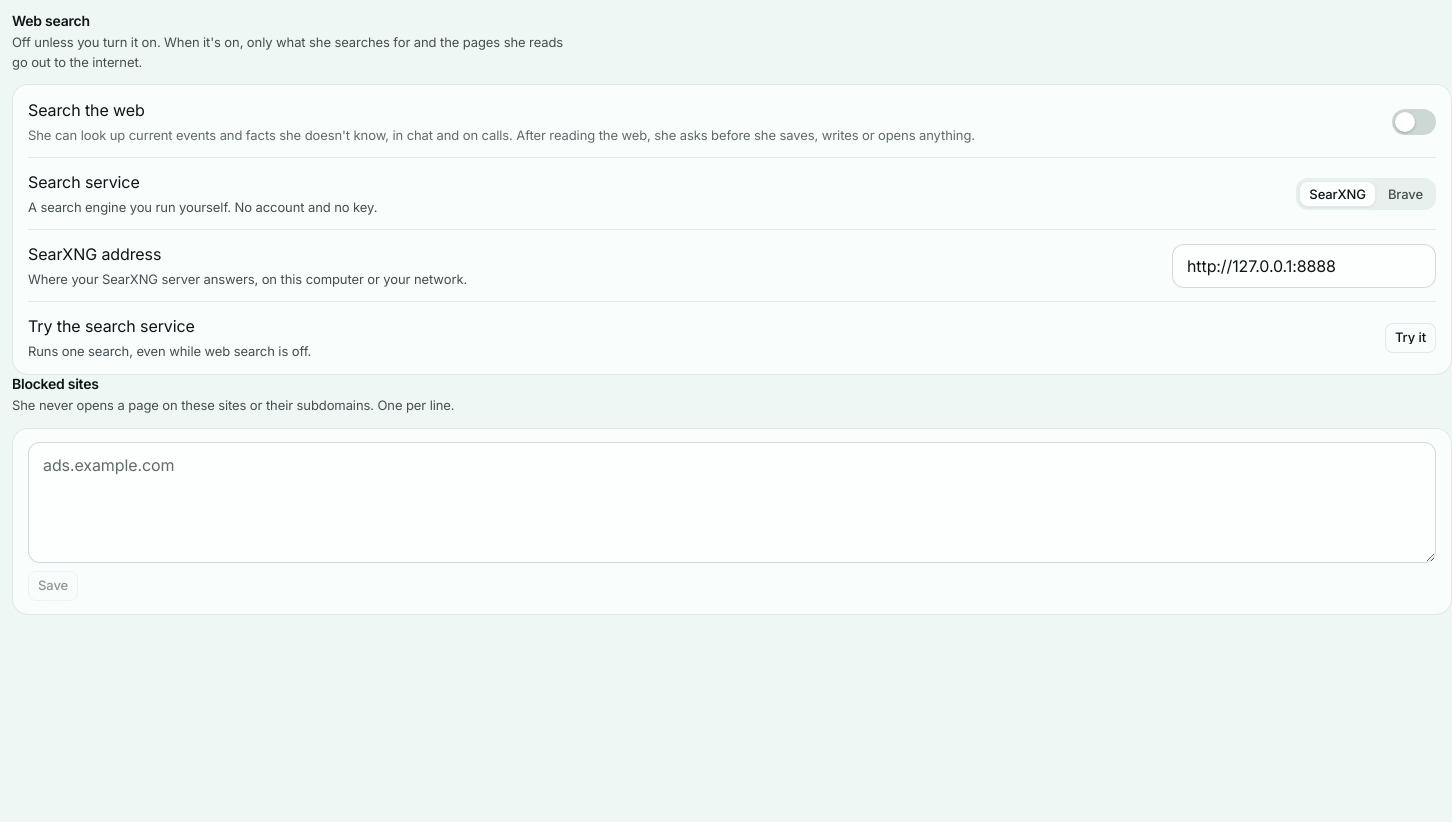
it: web search settings › refuses an address that is not http before saving it
Replace the text in the field named "SearXNG address" with "file:///etc" at (1304, 266), box [1172,244,1436,288]
Then press Enter
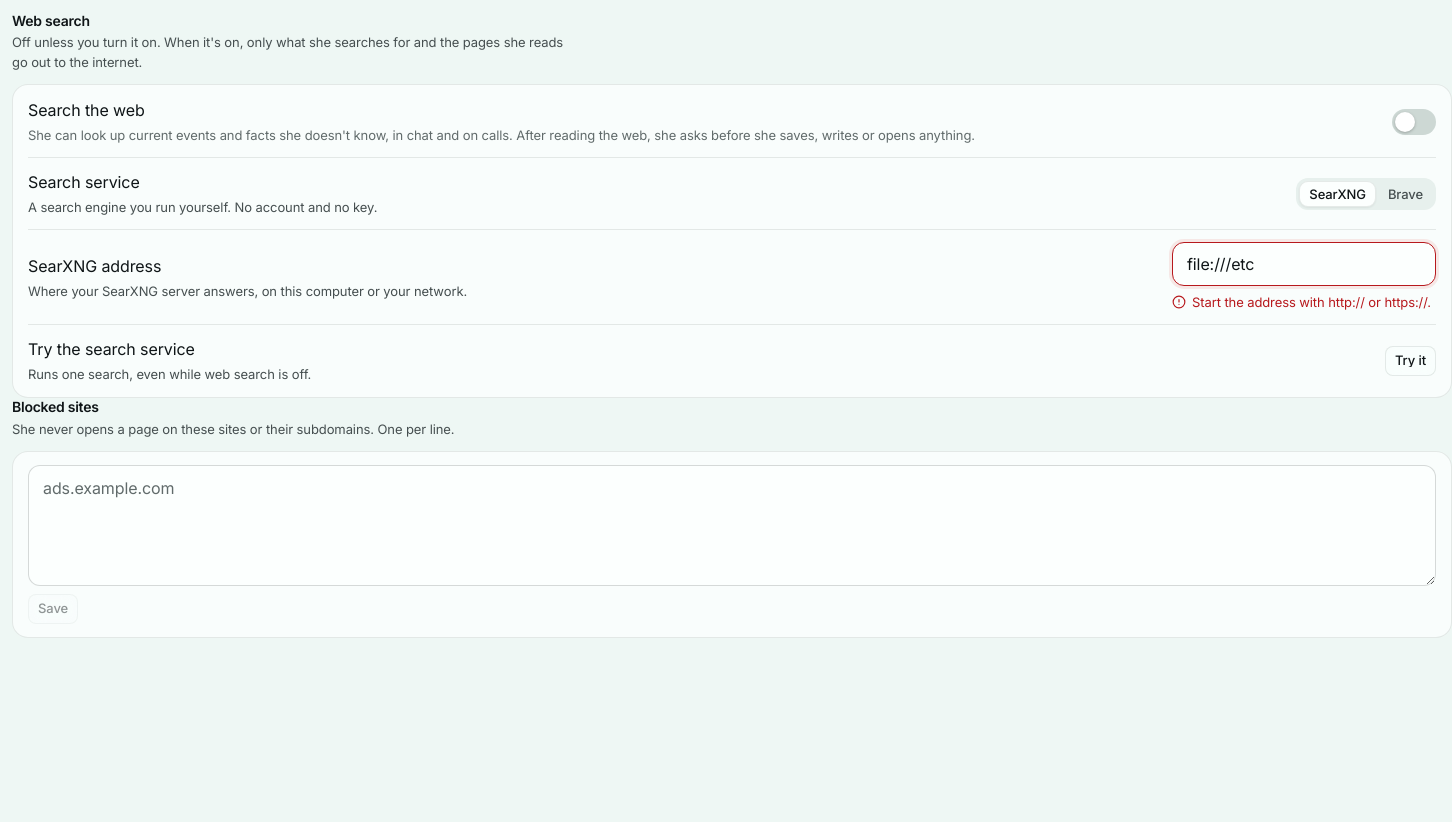
Check: the text "Start the address with http:// or https://." is shown, box [1172,292,1436,312]
